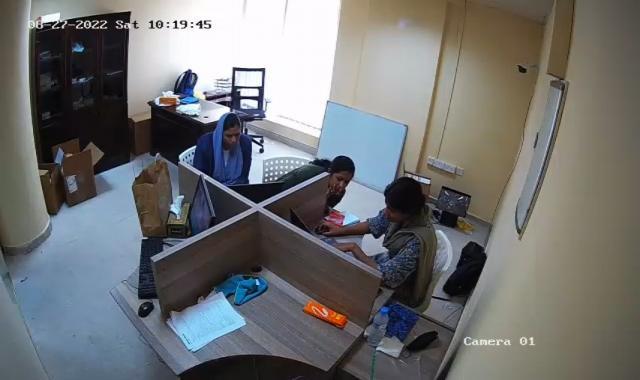no_hairnet: (384, 174, 428, 224), (323, 153, 365, 196), (212, 108, 245, 145)
